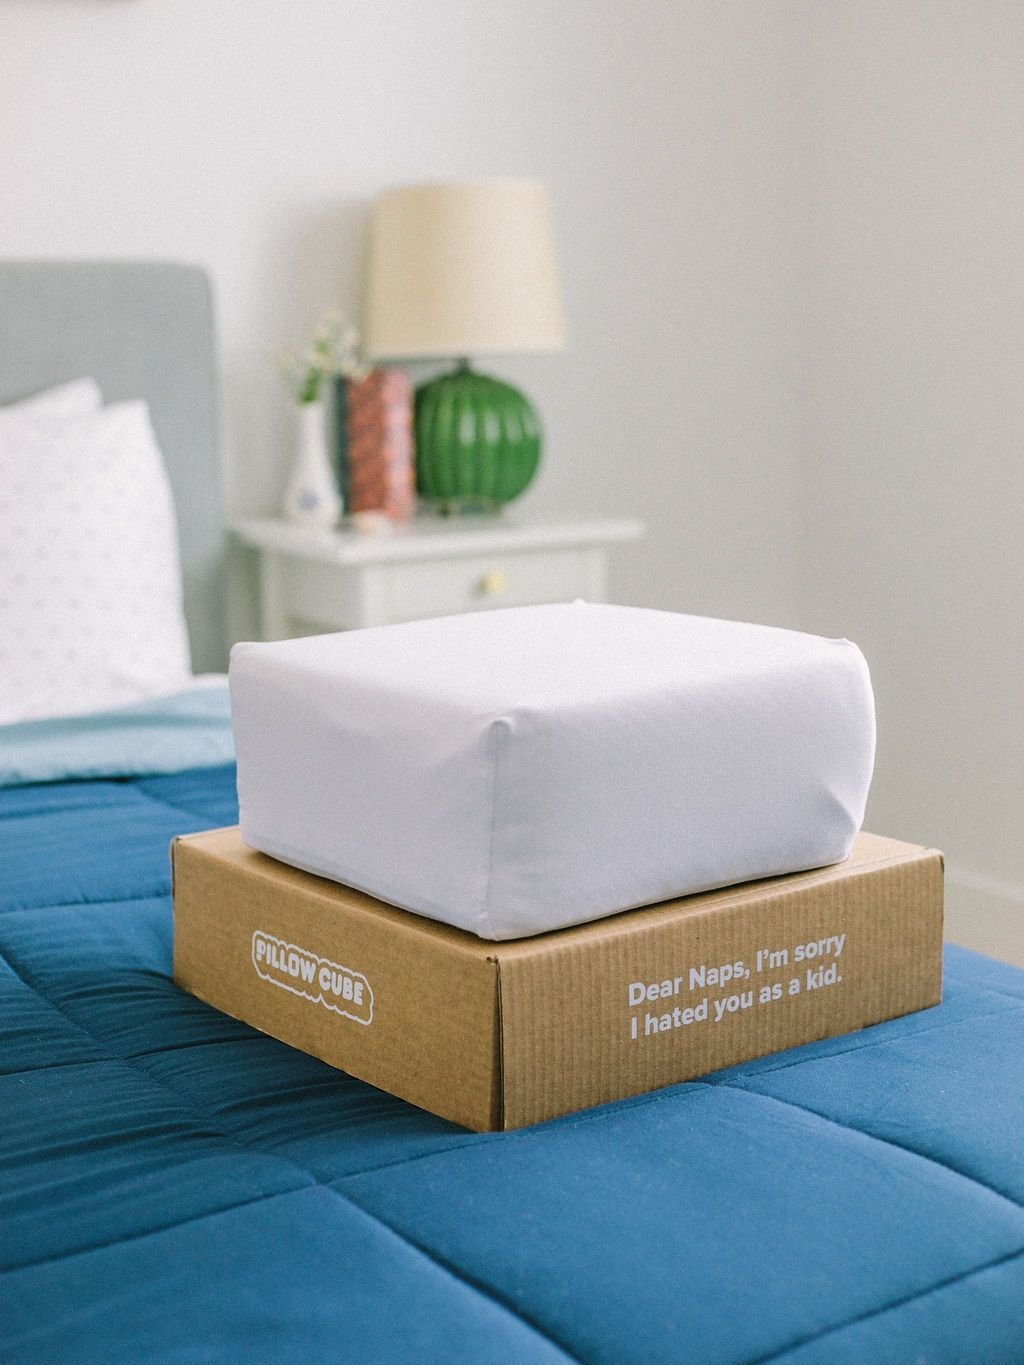bantal: (1, 386, 175, 712)
lampu: (360, 177, 580, 520)
